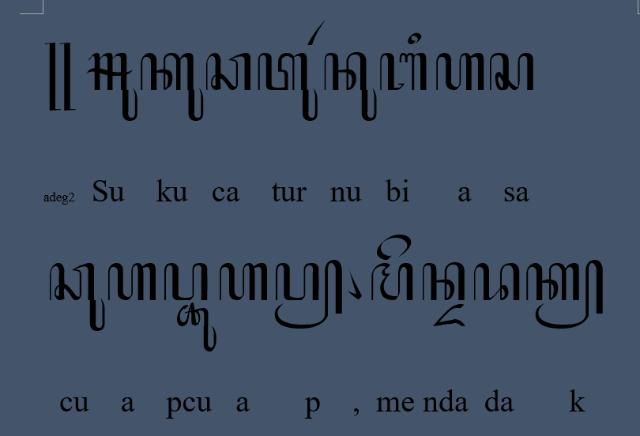-k: (524, 259, 604, 329)
-p: (274, 258, 344, 330)
Su: (85, 52, 138, 122)
_cu: (176, 302, 217, 354)
_d: (431, 302, 467, 330)
_r1: (306, 19, 326, 45)
adeg2: (44, 40, 76, 114)
b: (378, 51, 428, 93)
c: (205, 50, 252, 92)
cu: (48, 260, 106, 332)
d: (473, 262, 521, 302)
e: (376, 232, 412, 262)
h: (434, 50, 486, 92), (106, 262, 158, 302), (218, 262, 270, 302)
i: (407, 32, 421, 46)
kom: (347, 268, 363, 300)
ku: (138, 51, 206, 122)
m: (370, 262, 414, 302)
n: (421, 261, 467, 303)
nu: (322, 50, 378, 122)
p: (163, 262, 209, 302)
s: (488, 50, 536, 92)
tu: (257, 52, 319, 122)
